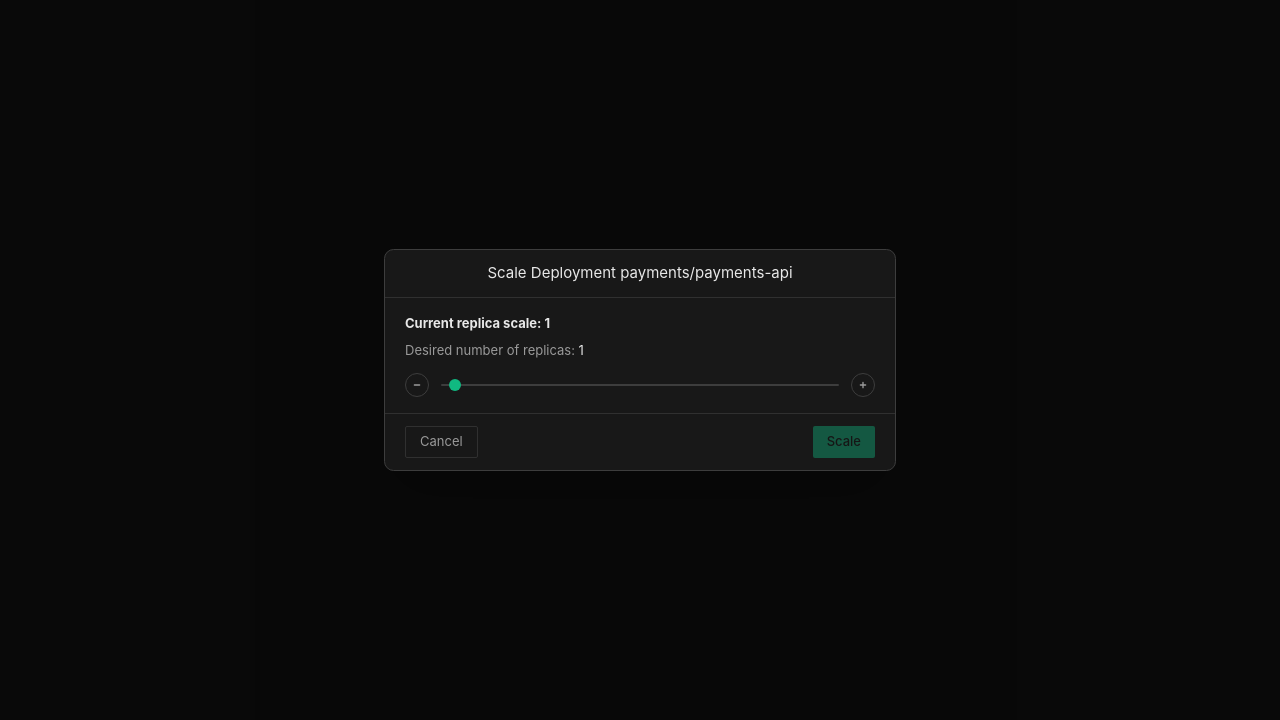
ScaleDialog › warns what zero means
Step 1. Click the button named "One fewer" → (417,385), box [405, 373, 429, 397]
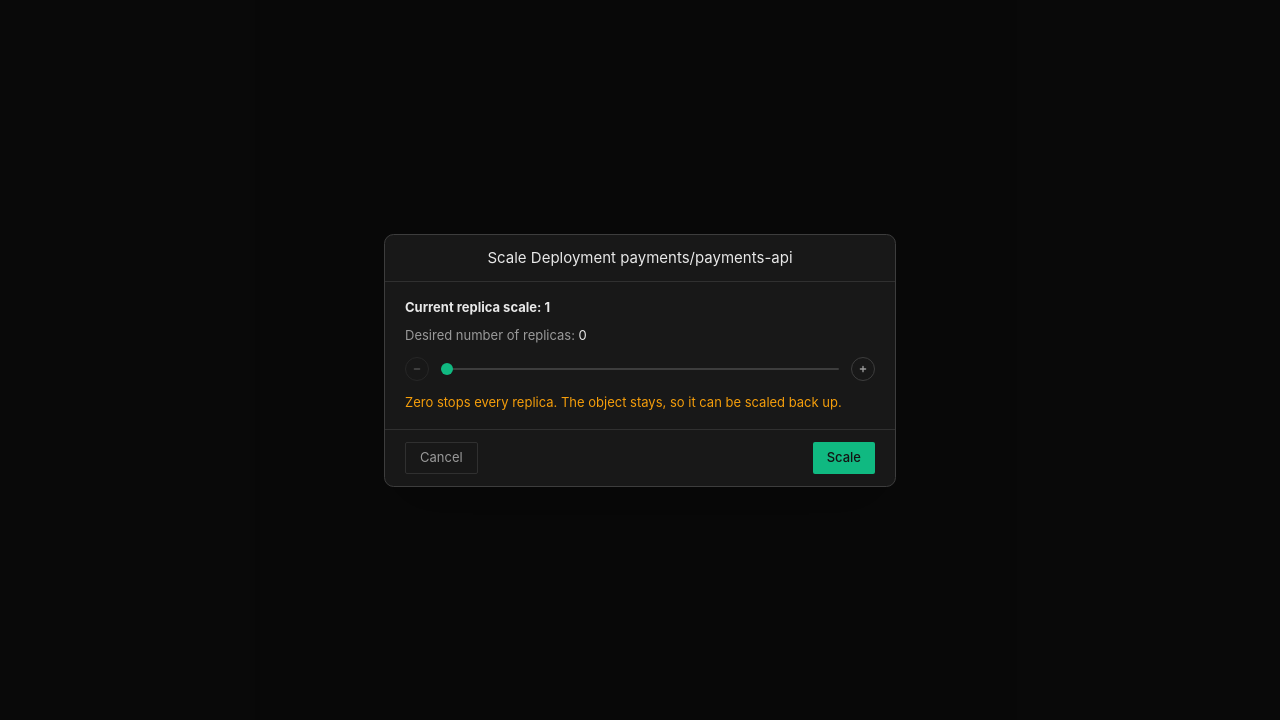
Now the text "Zero stops every replica" is shown, box [405, 394, 842, 410]
Now the button "Scale" is enabled, box [813, 442, 875, 474]
